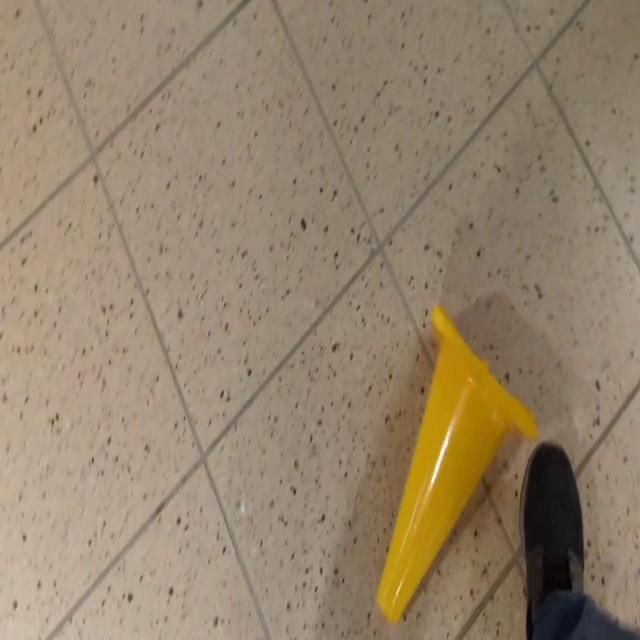frc_cone: (376, 305, 538, 623)
